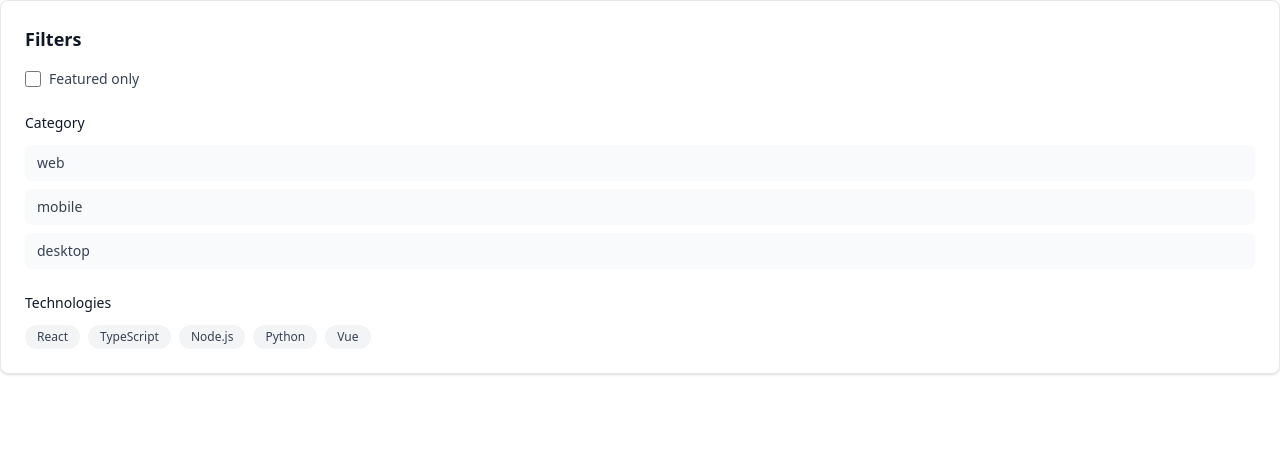
it: ProjectFilters › Active Filters Summary › should show active filters summary when filters are applied
Note: Apply filters
Click the checkbox named "Show only featured projects".
click(33, 79)  # box x1=25 y1=71 x2=41 y2=87
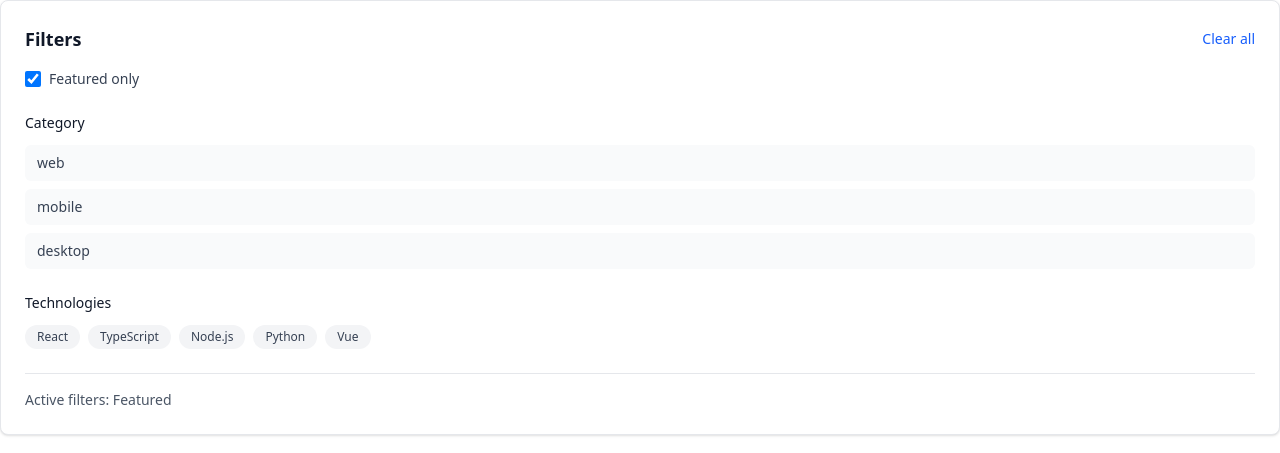
Click the button "web".
click(51, 162)  # box x1=25 y1=145 x2=1255 y2=181
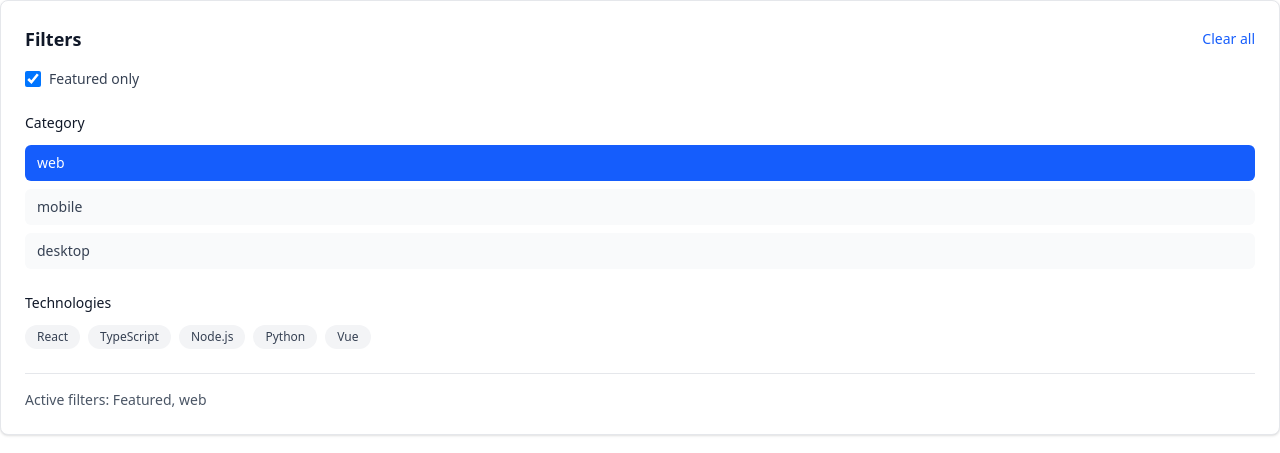
Click the button with aria-label "Filter by React".
click(53, 337)  # box x1=25 y1=325 x2=80 y2=349
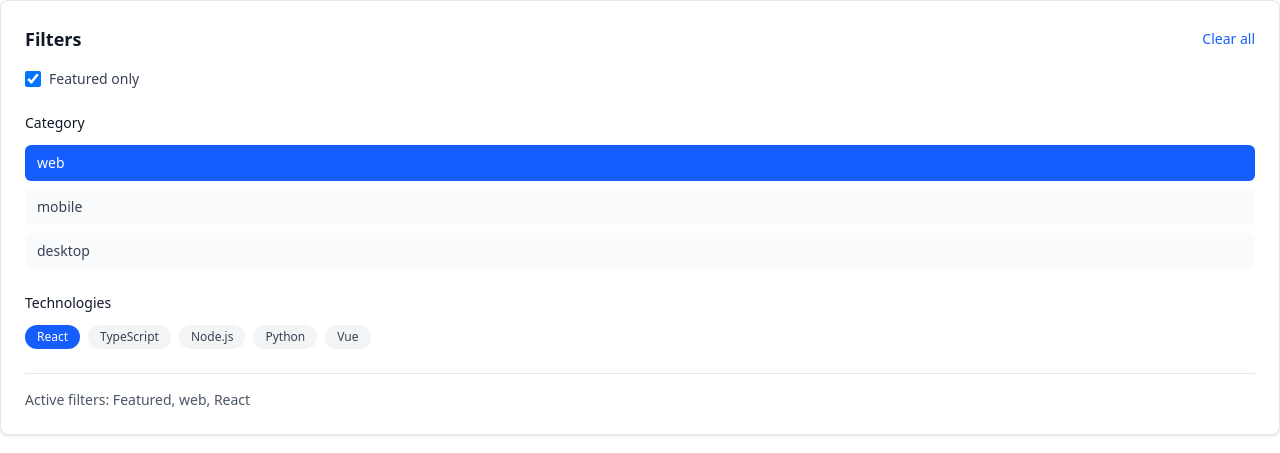
Expected: the message reads "Active filters: Featured, web, React", x1=25 y1=390 x2=250 y2=409
